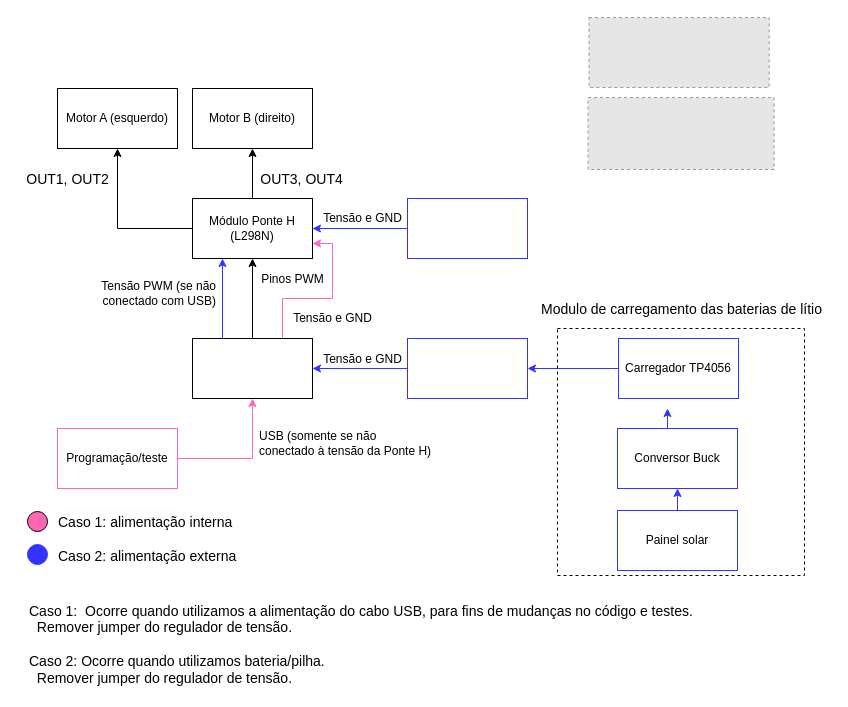
Image size: 848x707. Some labels were removed from this diagram. Grey dashed boxes stand in for pictures. The box of each missing label's shape, as (x1, y1, x2, y2) in pixels:
Arduino: (192, 338, 312, 398)
Tensão externa (2 baterias, 7.4): (406, 338, 528, 398)
Tensão externa (4pilhas, 4.8V): (406, 198, 528, 258)
